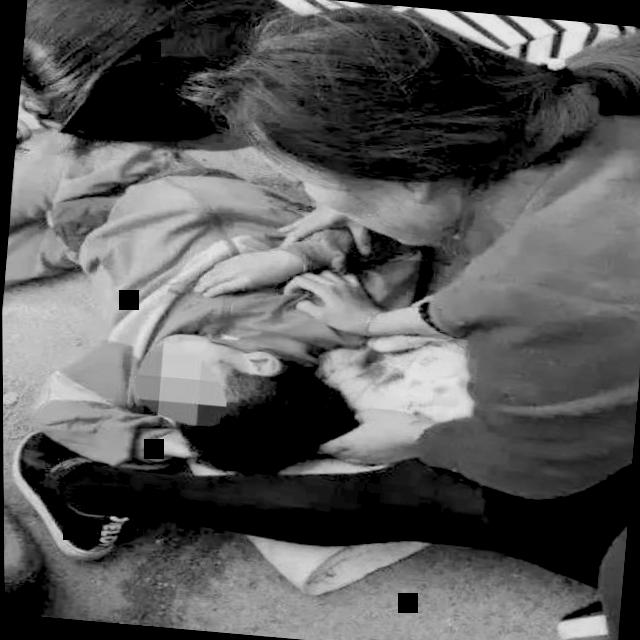Fall-Detected: (1, 86, 418, 524)
